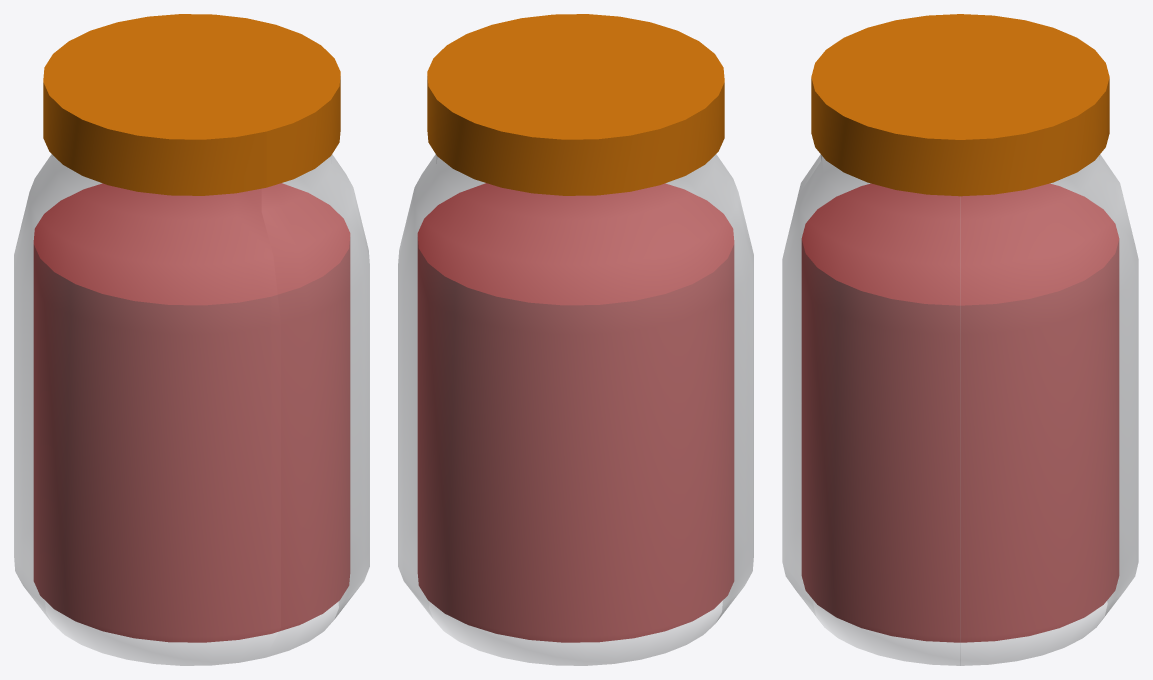
The model's file is glass-jar.glb.
3 views of the same model, side by side, from view 1: azimuth 30°, elevation 25°; view 2: azimuth 150°, elevation 25°; view 3: azimuth 270°, elevation 25° (orthographic).
Visible parts, largest first — view 1: Jar_Glass_Outer, Jar_Inner_Preserve, Jar_Twist_Lid; view 2: Jar_Glass_Outer, Jar_Inner_Preserve, Jar_Twist_Lid; view 3: Jar_Glass_Outer, Jar_Inner_Preserve, Jar_Twist_Lid.
Boxes of the visible parts, bbox=[...] form: Jar_Glass_Outer: bbox=[14, 154, 369, 665]; Jar_Inner_Preserve: bbox=[33, 183, 350, 642]; Jar_Twist_Lid: bbox=[43, 14, 340, 195]; Jar_Glass_Outer: bbox=[398, 154, 753, 665]; Jar_Inner_Preserve: bbox=[417, 183, 734, 642]; Jar_Twist_Lid: bbox=[427, 14, 724, 195]; Jar_Glass_Outer: bbox=[782, 154, 1138, 665]; Jar_Inner_Preserve: bbox=[801, 183, 1119, 642]; Jar_Twist_Lid: bbox=[811, 14, 1109, 196].
Size of the model in its own units: 0.092 by 0.15 by 0.092.
